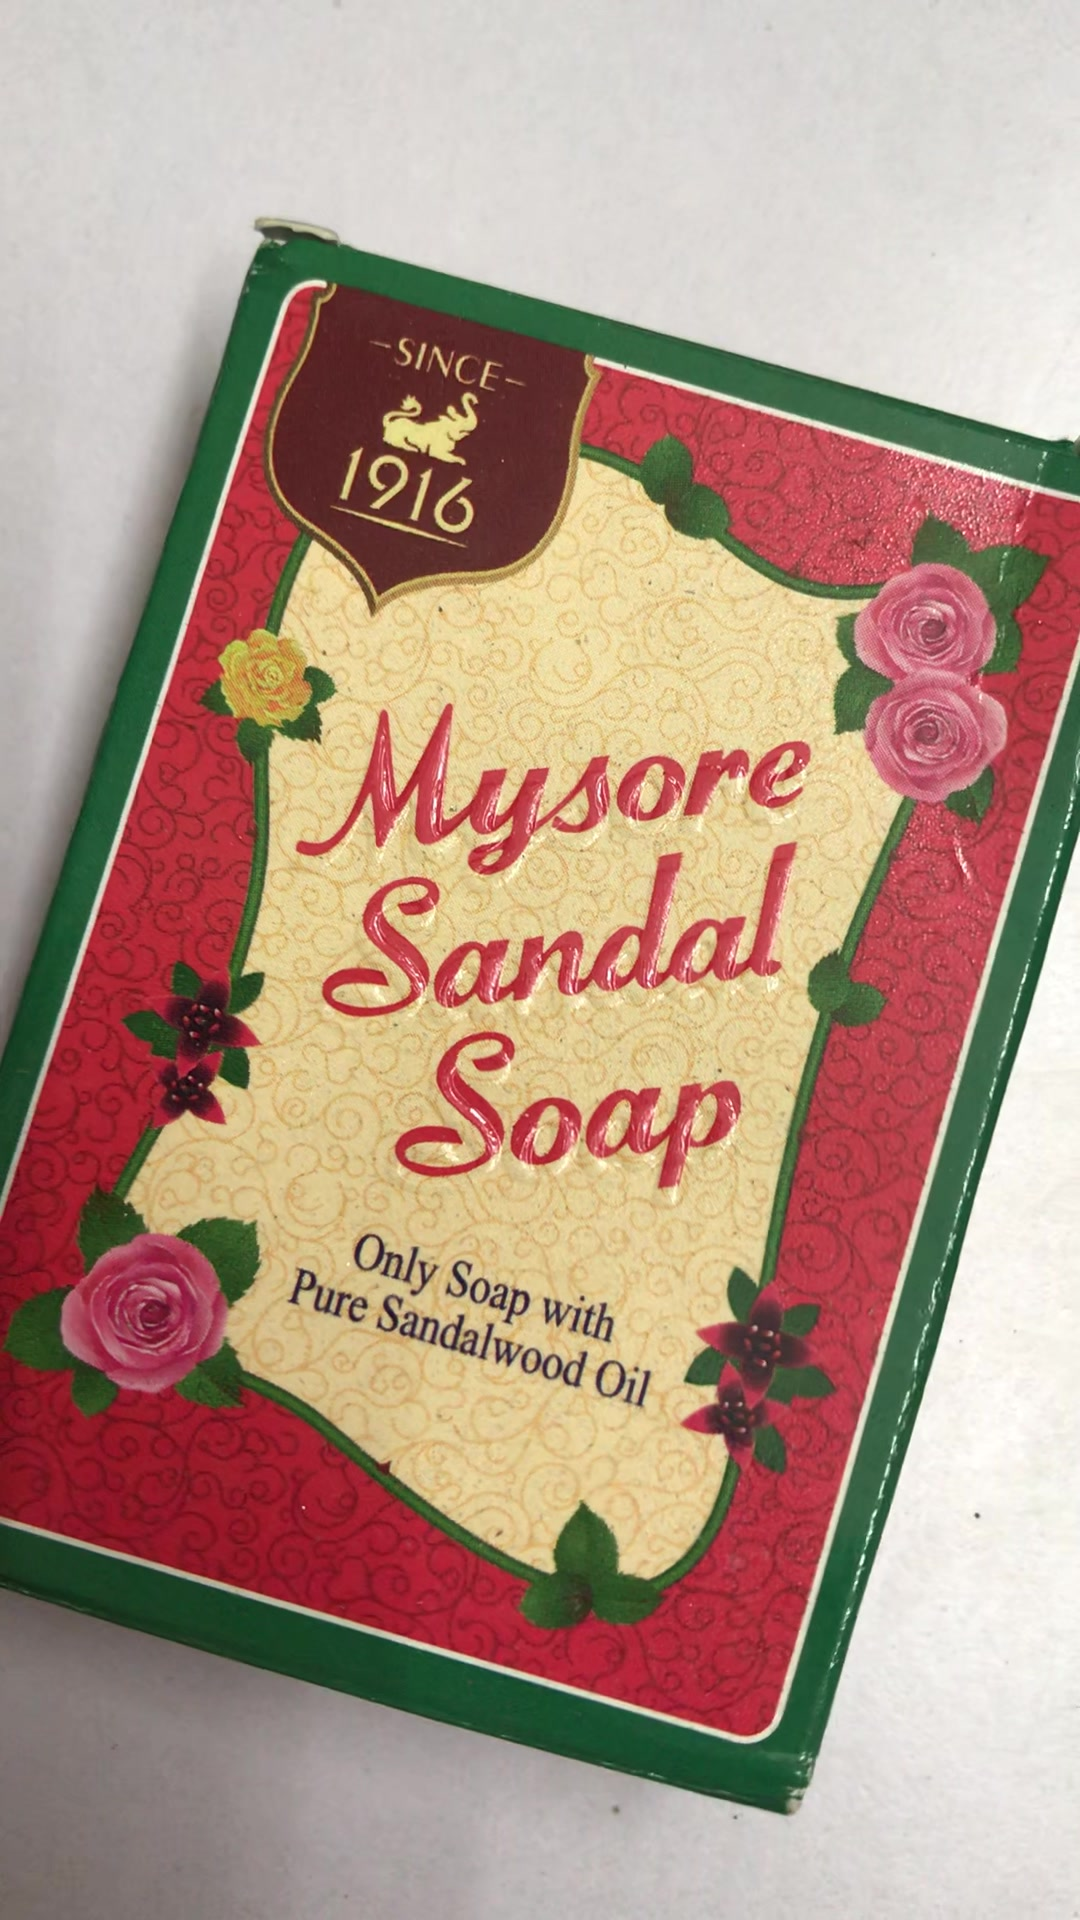mysore sandal soap: (5, 225, 1080, 1811)
